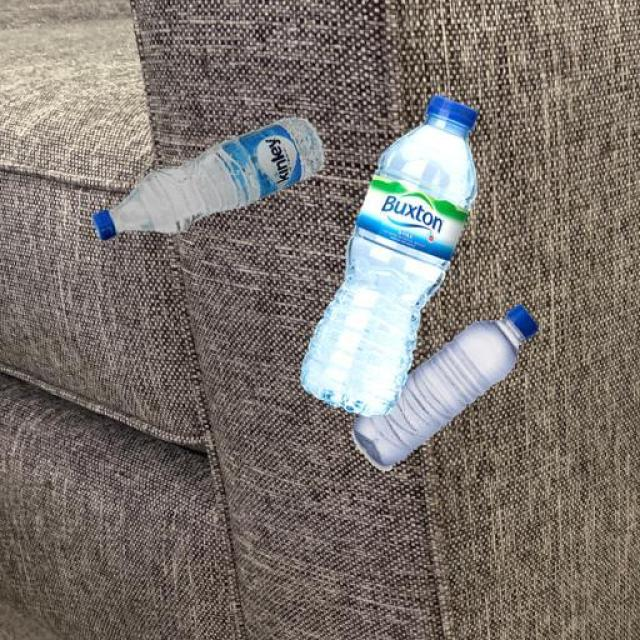plastic: (300, 96, 536, 469), (92, 118, 322, 239)
